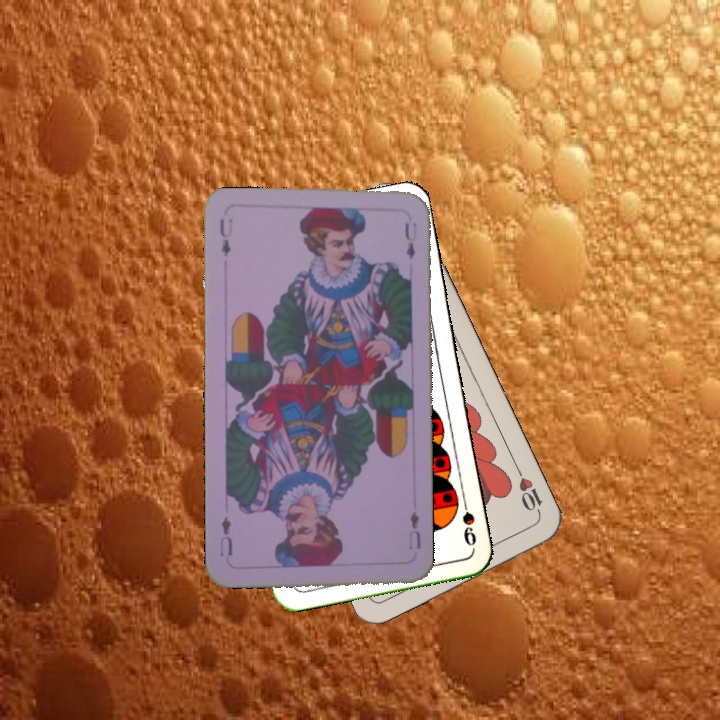EU: (215, 214, 235, 259), (405, 507, 424, 552)
H10: (512, 465, 546, 521)
S9: (458, 492, 479, 549)
